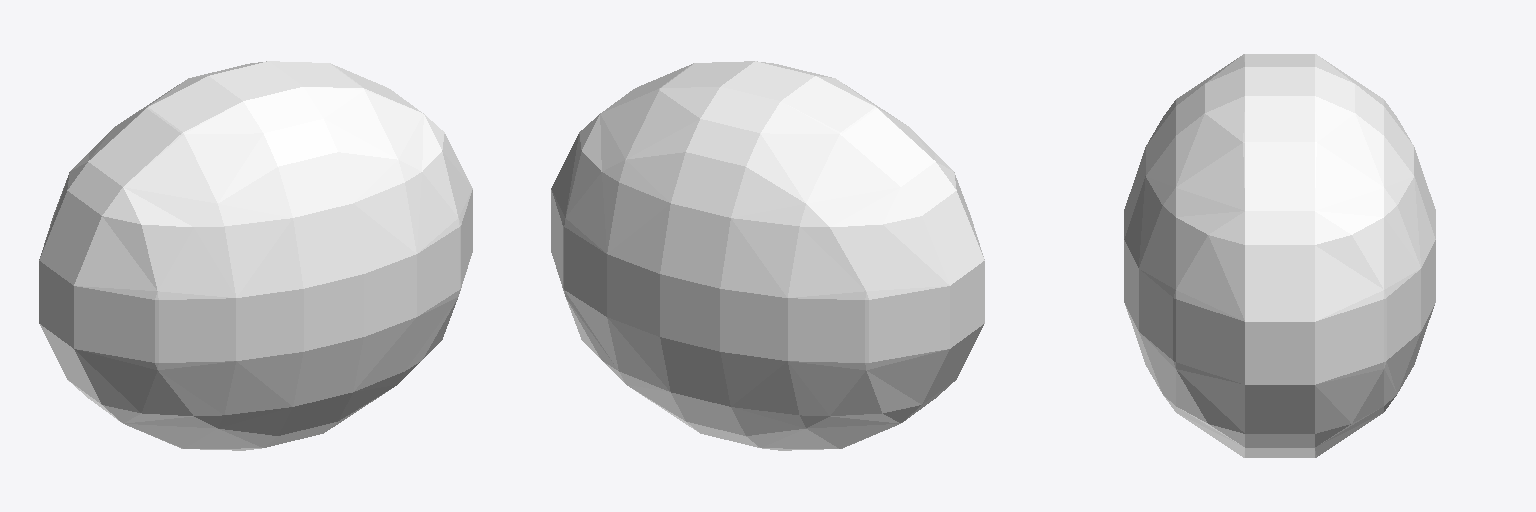
Rendered from potato.obj.
3 renders of one model, left to right at view 1: azimuth 30°, elevation 25°; view 2: azimuth 150°, elevation 25°; view 3: azimuth 270°, elevation 25°, orthographic.
Visible parts, largest first — view 1: Potato_Mball; view 2: Potato_Mball; view 3: Potato_Mball.
Part boxes in pixels (x1,y1,x2,y2): Potato_Mball: (39, 61, 472, 450); Potato_Mball: (551, 61, 984, 450); Potato_Mball: (1124, 54, 1435, 457).
Bounding box in the file's own units: 2.65 × 2.22 × 1.79.